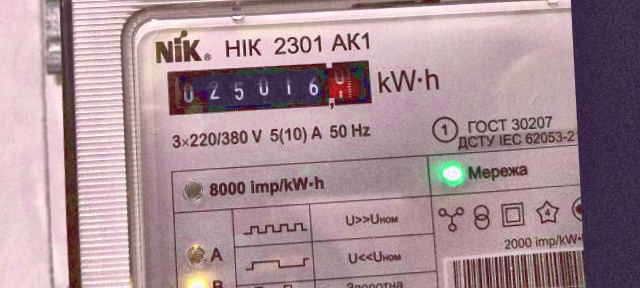0: (256, 73, 272, 97), (181, 81, 195, 104), (332, 65, 345, 85)
1: (281, 71, 294, 97), (335, 88, 344, 99)
2: (207, 77, 221, 101)
5: (232, 79, 244, 100)
6: (305, 73, 320, 99)
screen: (157, 50, 381, 122)
